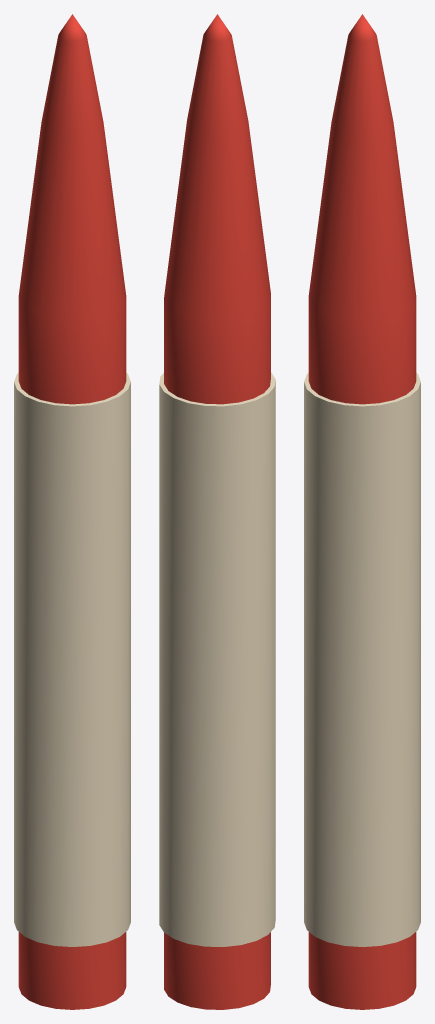
The model's file is crayon.glb.
3 renders of one model, left to right at view 1: azimuth 90°, elevation 25°; view 2: azimuth 150°, elevation 25°; view 3: azimuth 270°, elevation 25°, orthographic.
Parts seen in each view (by area): view 1: crayon; view 2: crayon; view 3: crayon.
Part boxes in pixels (bbox=[...]): crayon: bbox=[14, 14, 130, 1009]; crayon: bbox=[159, 14, 275, 1009]; crayon: bbox=[304, 14, 420, 1009].
Bounding box in the file's own units: 0.0098 × 0.09 × 0.0098.
